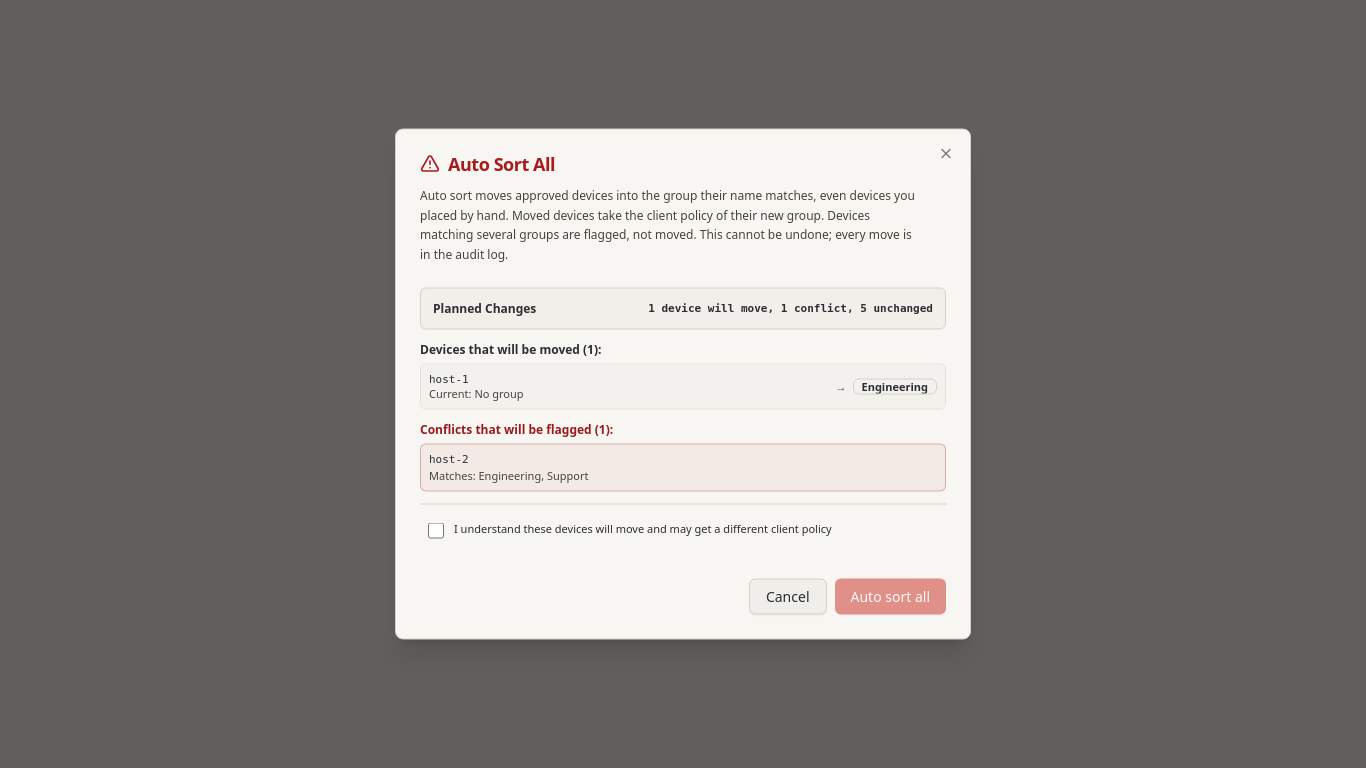
it: AutoSortDialog › loads dry run, displays numbers and lists, and confirm is disabled until ticked
Expected: the text "Auto Sort All" is shown, [448,154,555,172]
Expected: the text "1 device will move, 1 conflict, 5 unchanged" is shown, [648,302,933,316]
Click the checkbox labelled "I understand these devices will move and may get a different client policy" at (436, 530), box [428,522,444,538]
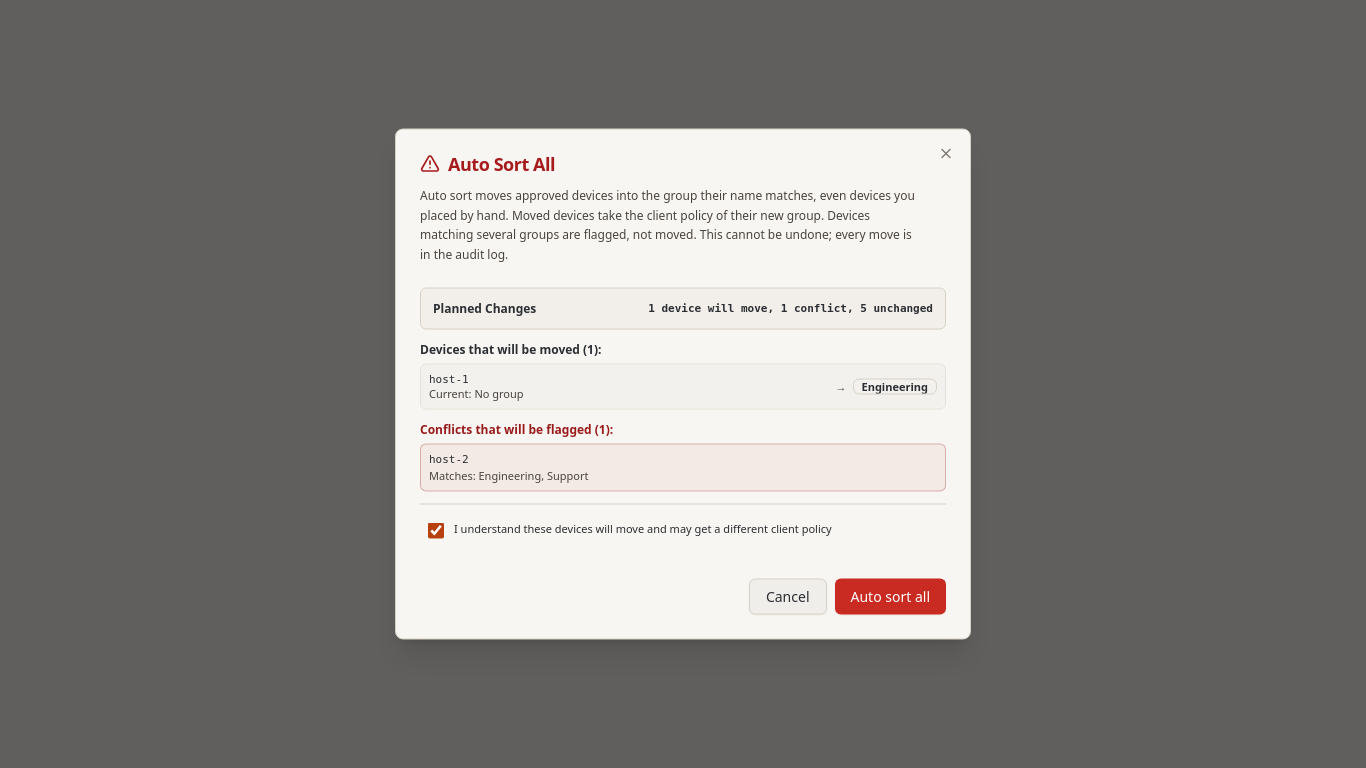
Now the button "Auto sort all" is enabled, box [834,578,946,614]
